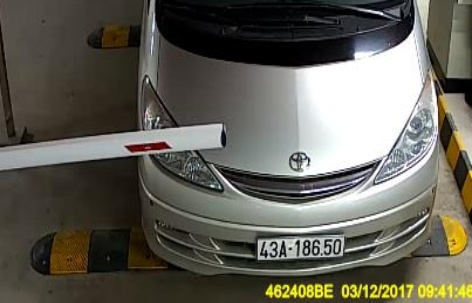plate: (253, 233, 349, 268)
